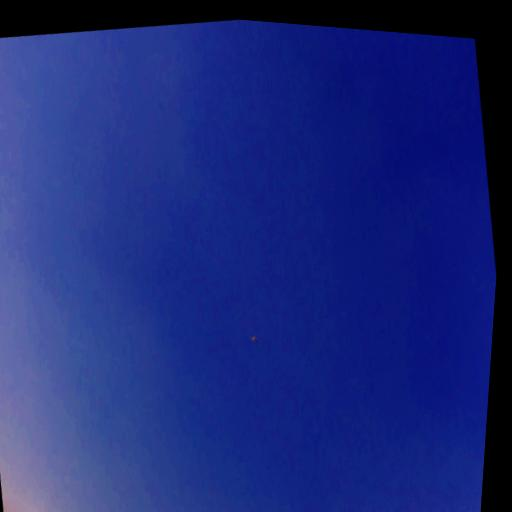drones: (248, 330, 260, 347)
